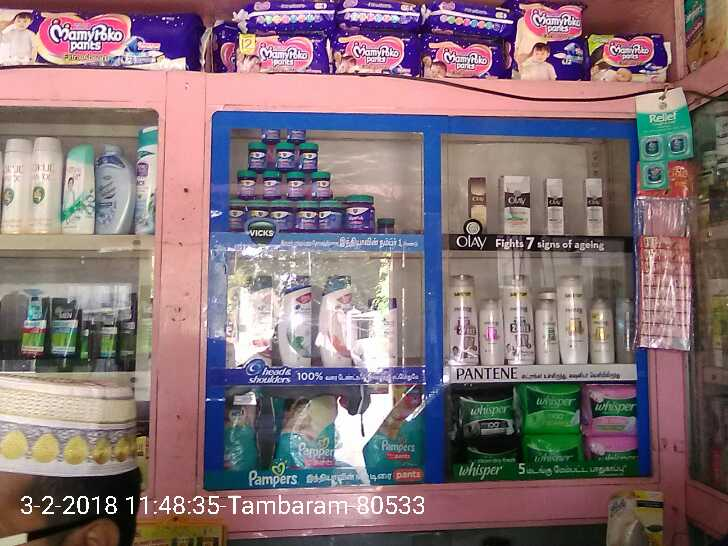vicks: (228, 127, 400, 237)
